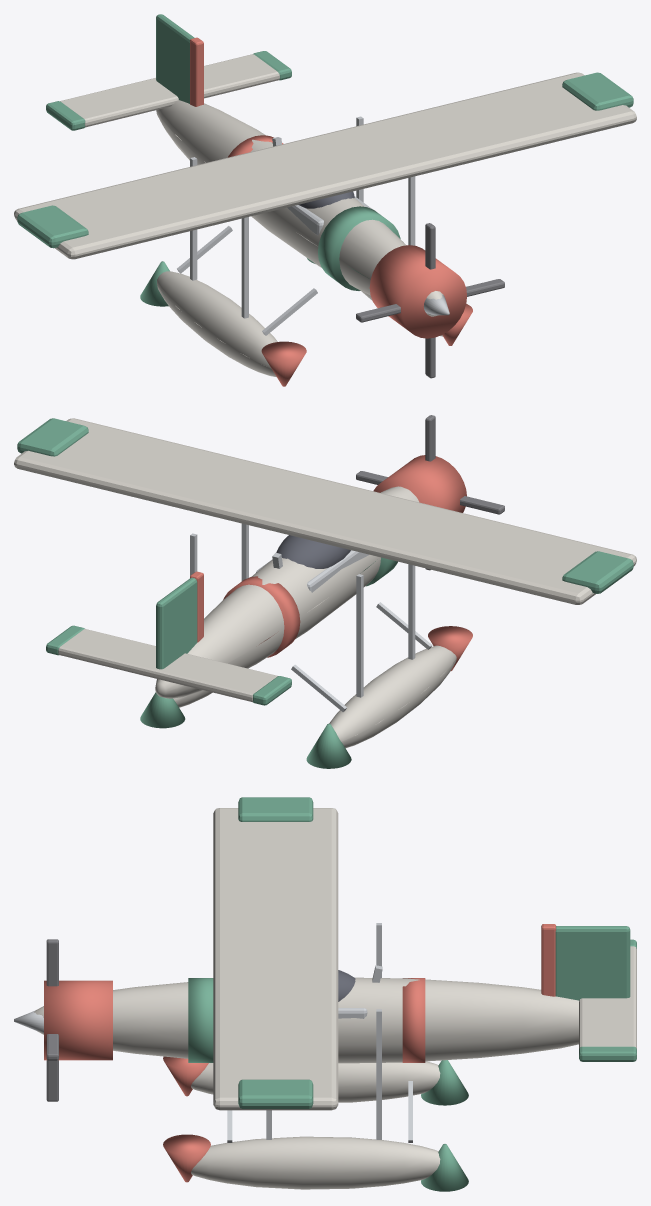
File: porco-fighter-v002.glb
3 renders of one model, top to bottom at view 1: azimuth 30°, elevation 25°; view 2: azimuth 150°, elevation 25°; view 3: azimuth 270°, elevation 25°, orthographic. The views are drawn at different scales.
Parts seen in each view (by area): view 1: wing_main, fuselage_body, nose_cowl, float_l, stab_main, fin_main, band_green, wing_tip_l, wing_tip_r, float_nose_l, fin_stripe, prop_blade_0 (+6 smaller); view 2: wing_main, fuselage_body, stab_main, float_l, fin_main, nose_cowl, wing_tip_l, wing_tip_r, canopy, band_red, float_tail_l, float_tail_r (+8 smaller); view 3: wing_main, fuselage_body, float_r, fin_main, nose_cowl, float_l, stab_main, wing_tip_r, band_green, band_red, wing_tip_l, float_nose_r (+7 smaller).
Part boxes in pixels (left/top/right/bottom): wing_main: left=14, top=72, right=636, bottom=259; fuselage_body: left=156, top=100, right=443, bottom=316; nose_cowl: left=369, top=245, right=466, bottom=338; float_l: left=157, top=271, right=277, bottom=377; stab_main: left=60, top=54, right=279, bottom=127; fin_main: left=156, top=14, right=194, bottom=103; band_green: left=318, top=206, right=400, bottom=290; wing_tip_l: left=17, top=205, right=88, bottom=248; wing_tip_r: left=562, top=72, right=633, bottom=110; float_nose_l: left=261, top=341, right=306, bottom=386; fin_stripe: left=190, top=37, right=203, bottom=106; prop_blade_0: left=425, top=223, right=435, bottom=378; wing_main: left=14, top=418, right=636, bottom=604; fuselage_body: left=155, top=486, right=418, bottom=698; stab_main: left=58, top=629, right=277, bottom=701; float_l: left=329, top=645, right=456, bottom=748; fin_main: left=156, top=577, right=197, bottom=669; nose_cowl: left=373, top=455, right=466, bottom=512; wing_tip_l: left=562, top=551, right=633, bottom=593; wing_tip_r: left=17, top=418, right=88, bottom=456; canopy: left=276, top=535, right=350, bottom=568; band_red: left=223, top=576, right=300, bottom=657; float_tail_l: left=306, top=723, right=351, bottom=768; float_tail_r: left=140, top=692, right=185, bottom=728; wing_main: left=213, top=808, right=338, bottom=1110; fuselage_body: left=34, top=977, right=579, bottom=1063; float_r: left=191, top=1136, right=440, bottom=1189; fin_main: left=555, top=926, right=630, bottom=1000; nose_cowl: left=44, top=980, right=112, bottom=1060; float_l: left=191, top=1061, right=440, bottom=1102; stab_main: left=579, top=946, right=636, bottom=1048; wing_tip_r: left=238, top=1079, right=313, bottom=1108; band_green: left=188, top=978, right=213, bottom=1062; band_red: left=402, top=978, right=425, bottom=1062; wing_tip_l: left=238, top=797, right=313, bottom=821; float_nose_r: left=163, top=1134, right=210, bottom=1182.
Bounding box in the file's own units: 10.9 × 3.68 × 9.47.
